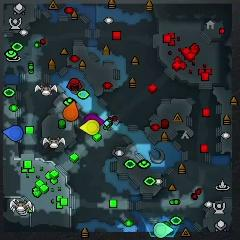p1: (3, 124, 24, 141)
p2: (153, 222, 173, 238)
p3: (85, 114, 104, 125)
p4: (79, 120, 100, 135)
p5: (63, 101, 79, 121)
